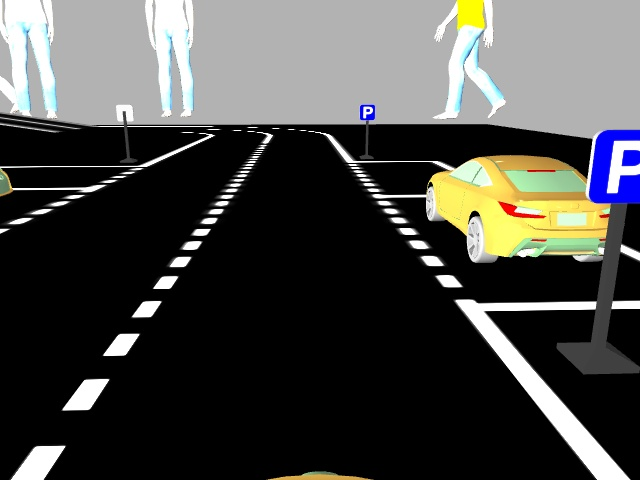Parking: (582, 129, 639, 204), (358, 103, 376, 120)
